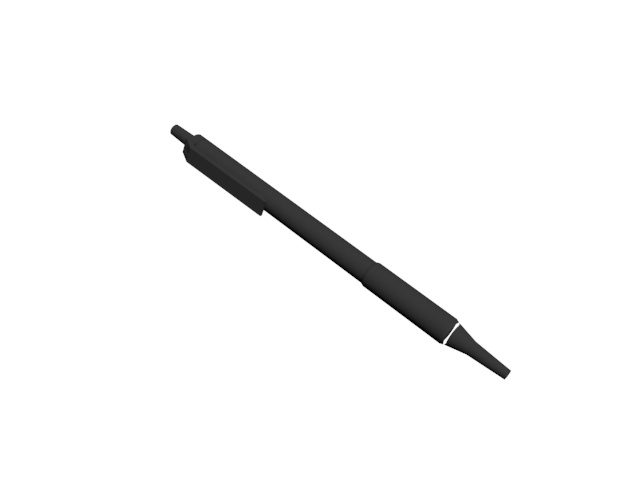pen: (169, 121, 512, 384)
